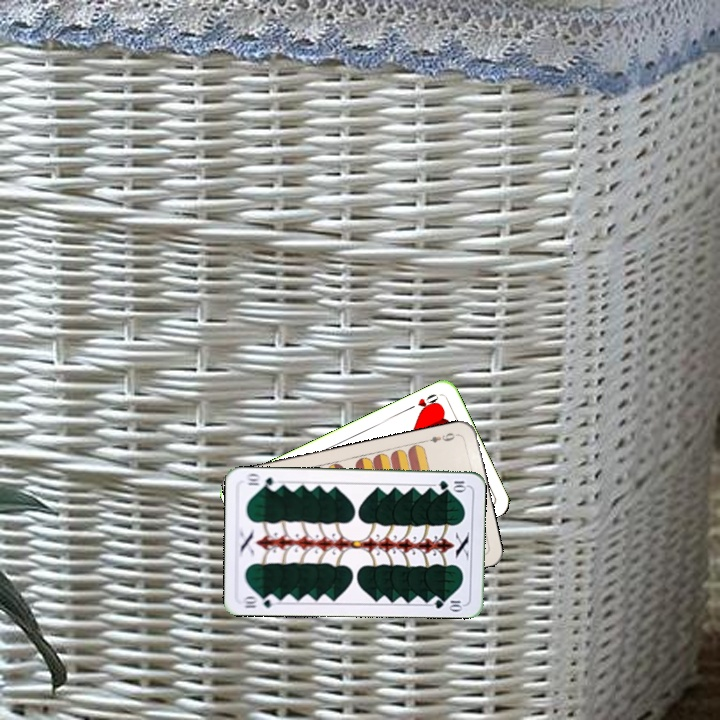E9: (420, 429, 461, 445)
G10: (239, 591, 279, 611), (435, 477, 469, 492)
HO: (404, 390, 441, 415)
